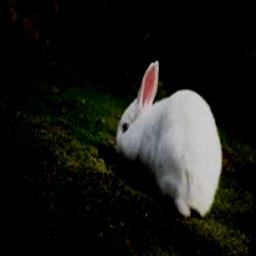rabbit: (115, 60, 222, 215)
